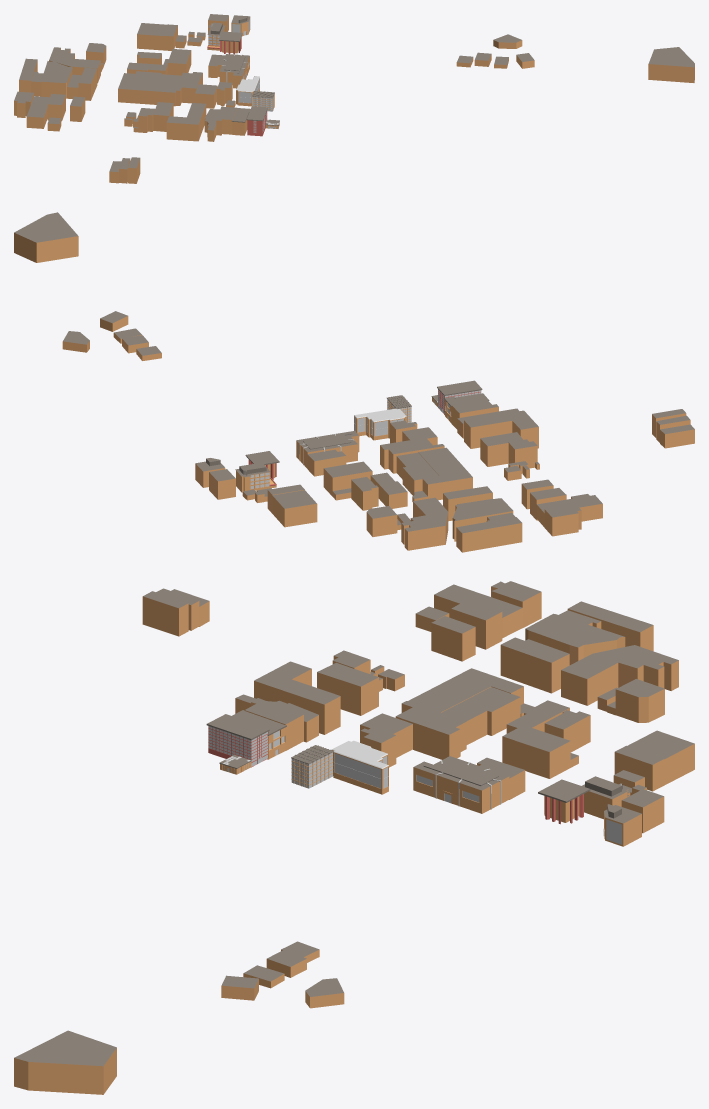
File: Coffs-Harbor_OSM_BUILD.fbx
3 renders of one model, top to bottom at view 1: azimuth 30°, elevation 25°; view 2: azimuth 150°, elevation 25°; view 3: azimuth 270°, elevation 25°, orthographic. The views are drawn at different scales.
Visible parts, largest first — view 1: map_4.osm_buildings, map_4.osm_buildings.002, map_4.osm_buildings.001; view 2: map_4.osm_buildings, map_4.osm_buildings.002, map_4.osm_buildings.001; view 3: map_4.osm_buildings, map_4.osm_buildings.002, map_4.osm_buildings.001.
Part boxes in pixels (box(x1,y1,x2,y2)): map_4.osm_buildings: box(14, 14, 694, 183); map_4.osm_buildings.002: box(219, 54, 249, 88); map_4.osm_buildings.001: box(236, 76, 259, 106); map_4.osm_buildings: box(14, 212, 694, 552); map_4.osm_buildings.002: box(296, 431, 359, 468); map_4.osm_buildings.001: box(354, 408, 406, 440); map_4.osm_buildings: box(14, 581, 694, 1094); map_4.osm_buildings.002: box(413, 756, 509, 813); map_4.osm_buildings.001: box(331, 740, 388, 794).
Bounding box in the file's own units: 665 × 22.43 × 390.
